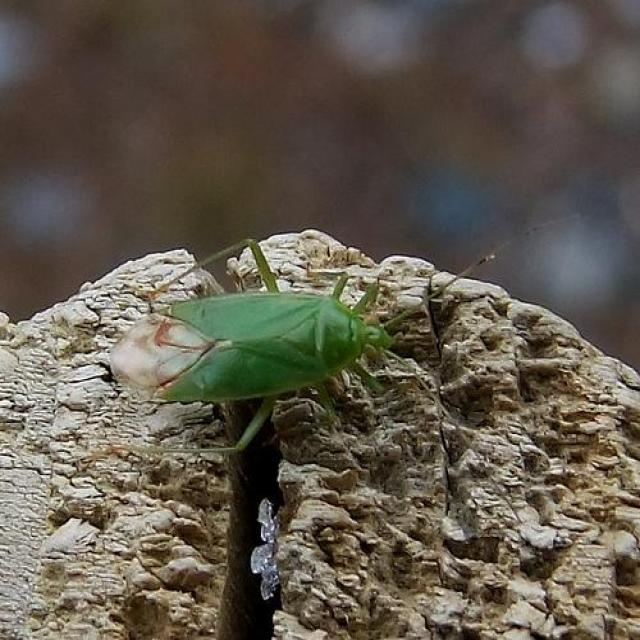Miridae-Adult-: (92, 232, 457, 444)
